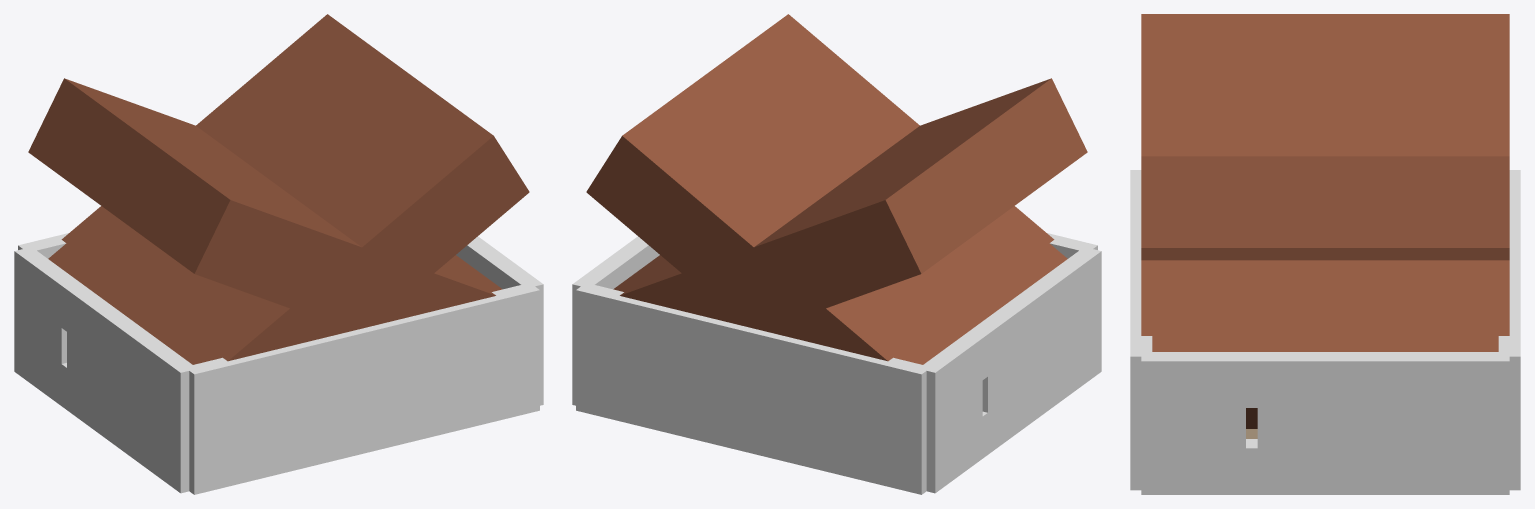
File: house_69c6896b.glb
3 renders of one model, left to right at view 1: azimuth 30°, elevation 25°; view 2: azimuth 150°, elevation 25°; view 3: azimuth 270°, elevation 25°, orthographic. The views are drawn at different scales.
Parts seen in each view (by area): view 1: Cube.004, Cube.002, Cube.005, Cube, Cube.001, Cube.003; view 2: Cube.004, Cube.003, Cube.005, Cube, Cube.001, Cube.002; view 3: Cube.005, Cube.001, Cube.004, Cube.002, Cube.003.
Boxes of the visible parts, x1,y1,x2,y2 form: Cube.004: (48,14,529,364); Cube.002: (184,285,539,494); Cube.005: (28,78,502,325); Cube: (14,248,197,493); Cube.001: (456,236,543,405); Cube.003: (18,233,68,258); Cube.004: (586,14,1067,364); Cube.003: (576,285,931,494); Cube.005: (613,78,1087,330); Cube: (920,247,1101,493); Cube.001: (572,236,659,405); Cube.002: (1047,233,1097,258); Cube.005: (1141,14,1509,428); Cube.001: (1141,352,1509,494); Cube.004: (1141,156,1509,260); Cube.002: (1130,170,1152,490); Cube.003: (1498,170,1520,490).
Size of the model in its own units: 12.6 by 9.33 by 10.6.
